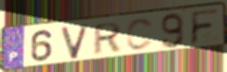6: (30, 29, 54, 63)
9: (160, 12, 186, 49)
C: (125, 17, 156, 52)
F: (189, 8, 221, 47)
R: (92, 21, 124, 57)
V: (60, 22, 91, 61)
